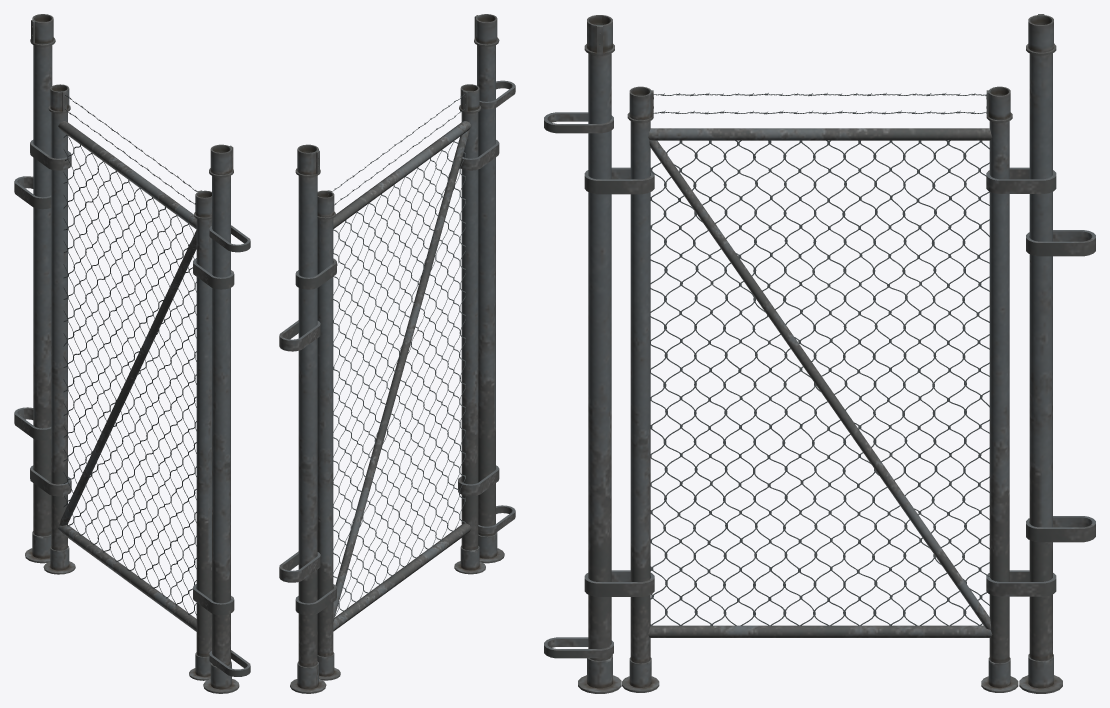
The model's file is SM_Fence_4.fbx.
The picture shows the model from 3 angles, left to right: view 1: azimuth 30°, elevation 25°; view 2: azimuth 150°, elevation 25°; view 3: azimuth 270°, elevation 25°; orthographic projection. The views are drawn at different scales.
Visible parts, largest first — view 1: SM_Fence_4_LOD0; view 2: SM_Fence_4_LOD0; view 3: SM_Fence_4_LOD0.
Boxes of the visible parts, box(x1,y1,x2,y2) form: SM_Fence_4_LOD0: box(14, 14, 250, 693); SM_Fence_4_LOD0: box(279, 14, 515, 693); SM_Fence_4_LOD0: box(544, 14, 1095, 693).
Size of the model in its own units: 19.2 by 241 by 320.
Materials: 2 (2 with a texture image).
